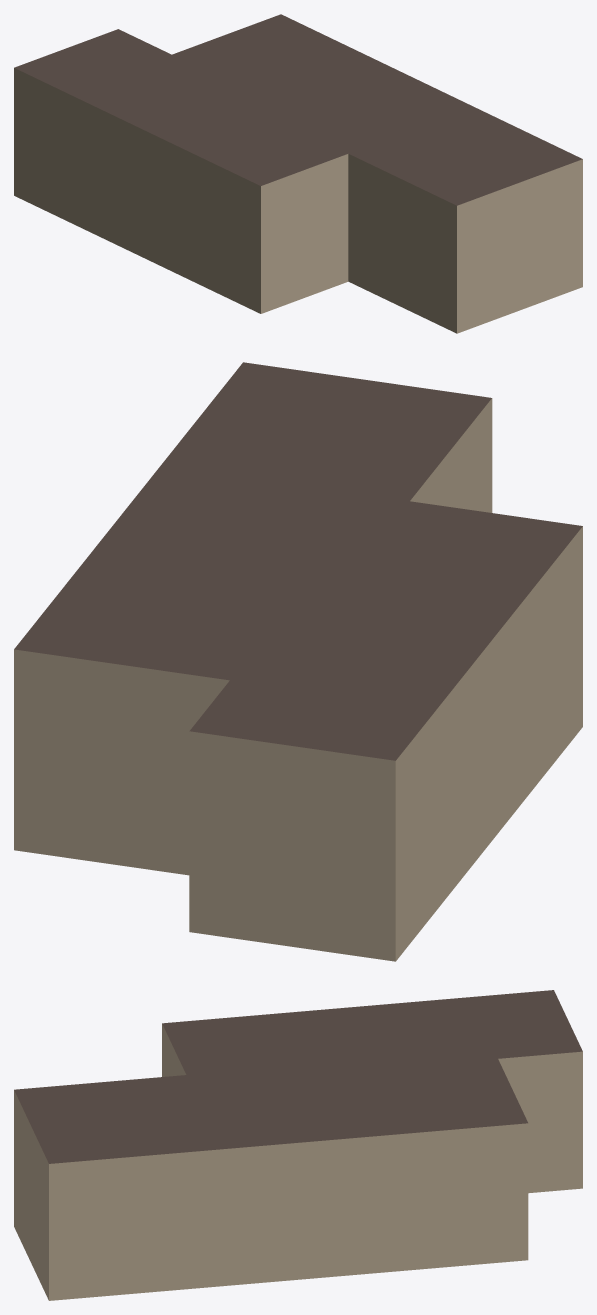
The picture shows the model from 3 angles, top to bottom: view 1: azimuth 30°, elevation 25°; view 2: azimuth 150°, elevation 25°; view 3: azimuth 270°, elevation 25°; orthographic projection. The views are drawn at different scales.
Parts seen in each view (by area): view 1: HP-w1202498301; view 2: HP-w1202498301; view 3: HP-w1202498301.
Part boxes in pixels (x1,y1,x2,y2): HP-w1202498301: [14, 14, 582, 333]; HP-w1202498301: [14, 362, 582, 961]; HP-w1202498301: [14, 990, 582, 1300].
Bounding box in the file's own units: 24.52 × 9 × 33.88.
